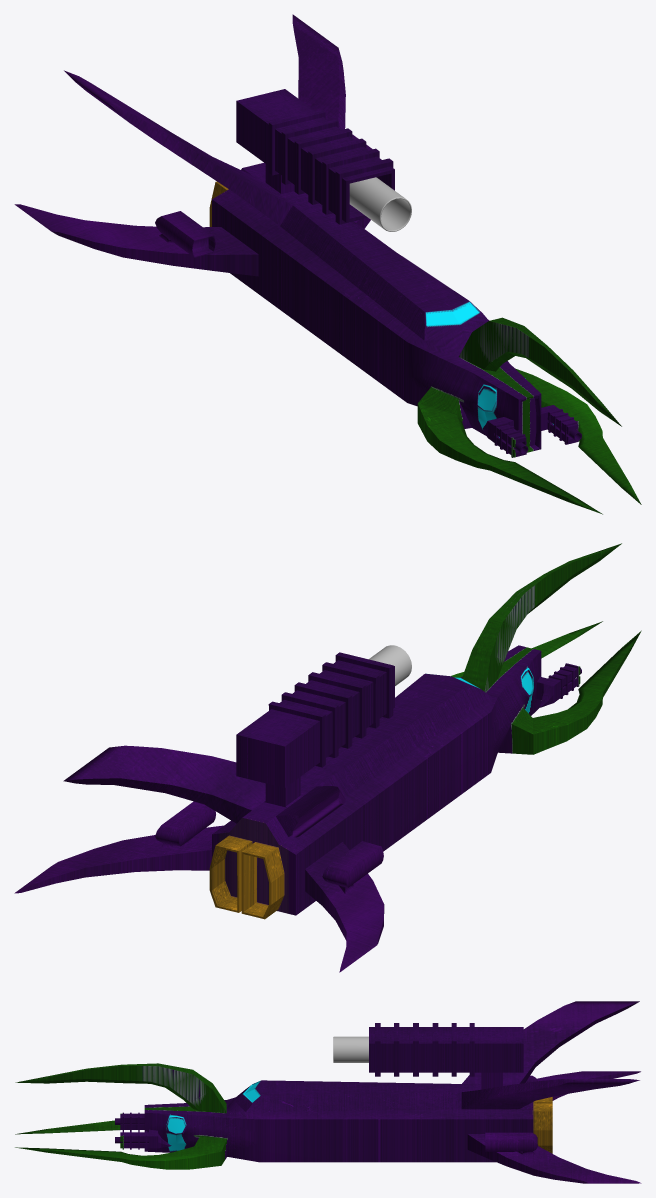
File: destroyer.obj
3 views of the same model, one above another, from view 1: azimuth 30°, elevation 25°; view 2: azimuth 150°, elevation 25°; view 3: azimuth 270°, elevation 25° (orthographic). The views are drawn at different scales.
Visible parts, largest first — view 1: pCylinder4; view 2: pCylinder4; view 3: pCylinder4.
Boxes of the visible parts, <box> form: pCylinder4: <box>14,14,641,514</box>; pCylinder4: <box>14,543,641,972</box>; pCylinder4: <box>15,1001,641,1183</box>.
Size of the model in its own units: 185 by 89.2 by 439.
